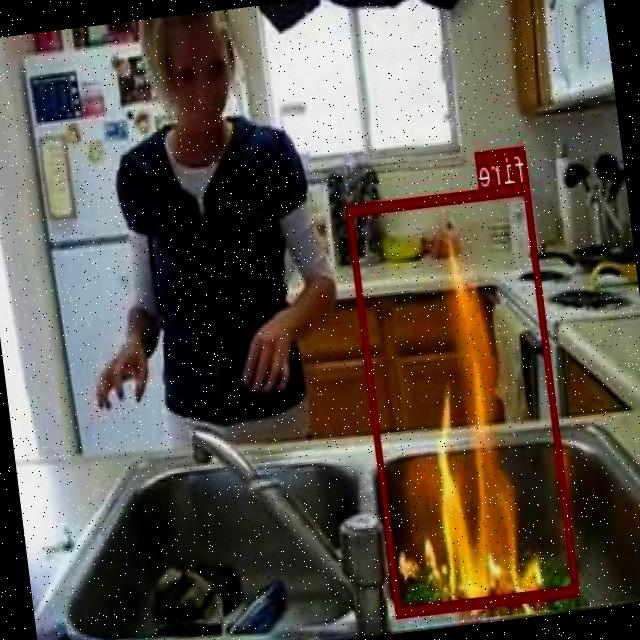fire: (346, 180, 579, 616)
